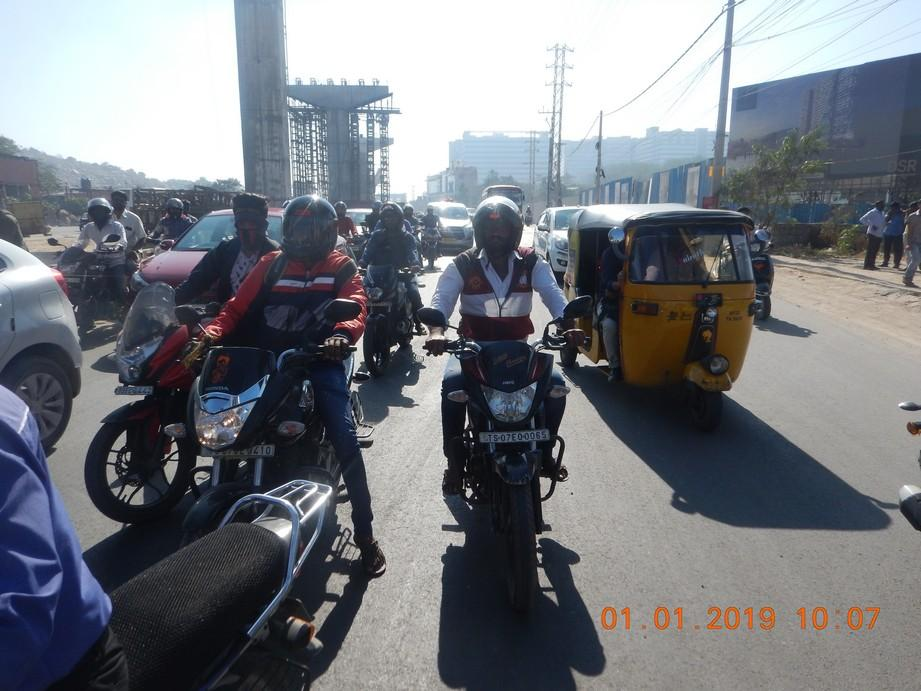plate: (479, 430, 550, 443)
